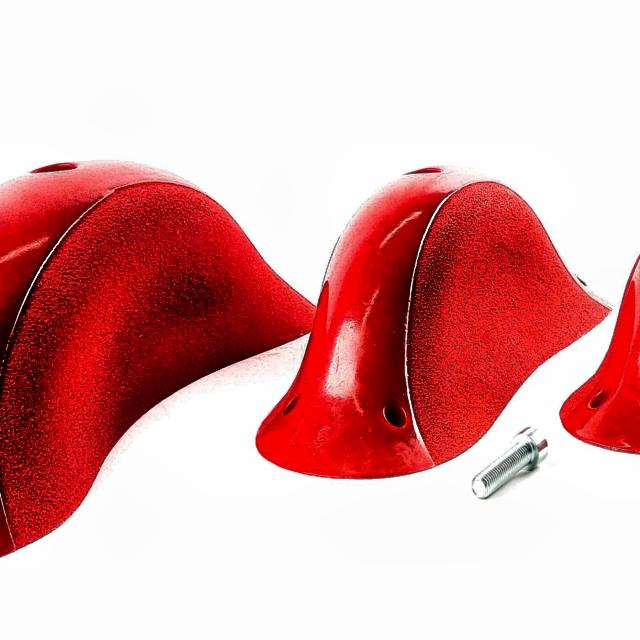Hold: (225, 142, 615, 501), (3, 141, 331, 566)
